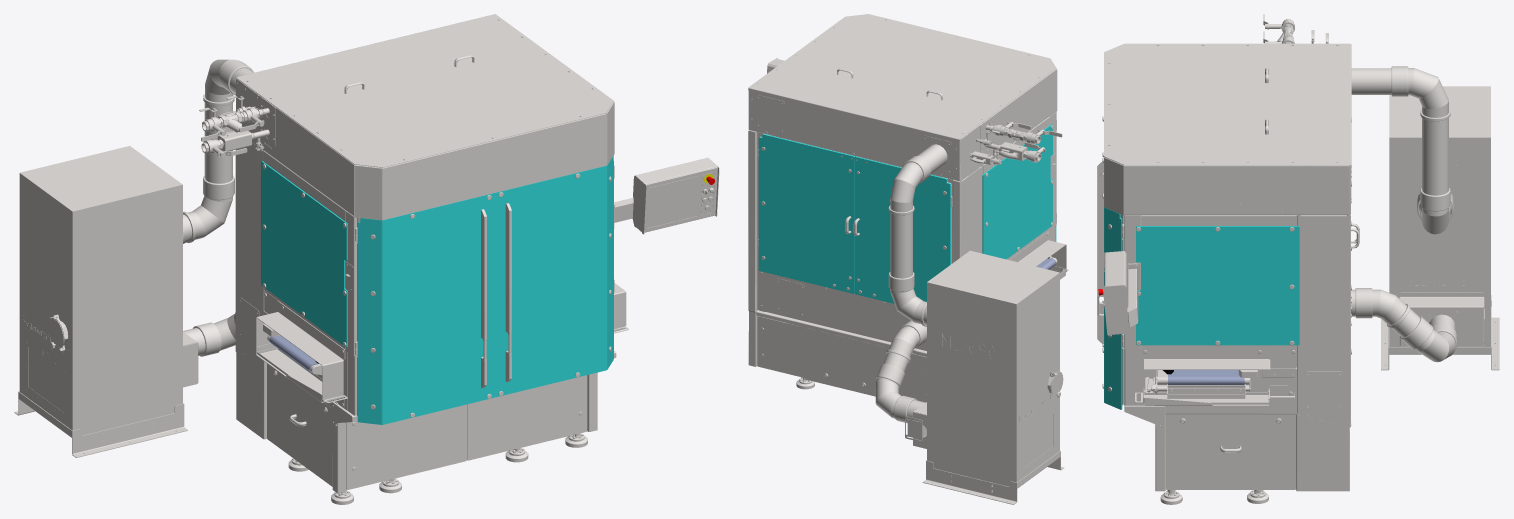
The picture shows the model from 3 angles, left to right: view 1: azimuth 30°, elevation 25°; view 2: azimuth 150°, elevation 25°; view 3: azimuth 270°, elevation 25°; orthographic projection. The views are drawn at different scales.
Visible parts, largest first — view 1: base, glass; view 2: base, glass; view 3: base, glass.
Boxes of the visible parts, <box> form: base: <box>14,14,719,504</box>; glass: <box>261,157,613,424</box>; base: <box>748,14,1068,504</box>; glass: <box>758,124,1056,303</box>; base: <box>1097,14,1499,504</box>; glass: <box>1104,207,1299,409</box>.
Size of the model in its own units: 3.31 by 2.27 by 2.37.
1 material, 1 textured.
